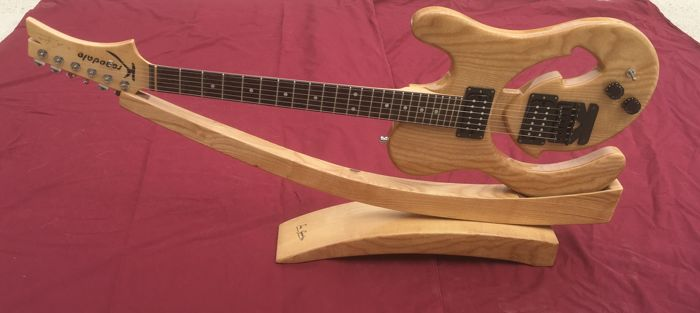ElectricGuitar: (25, 16, 662, 183)
